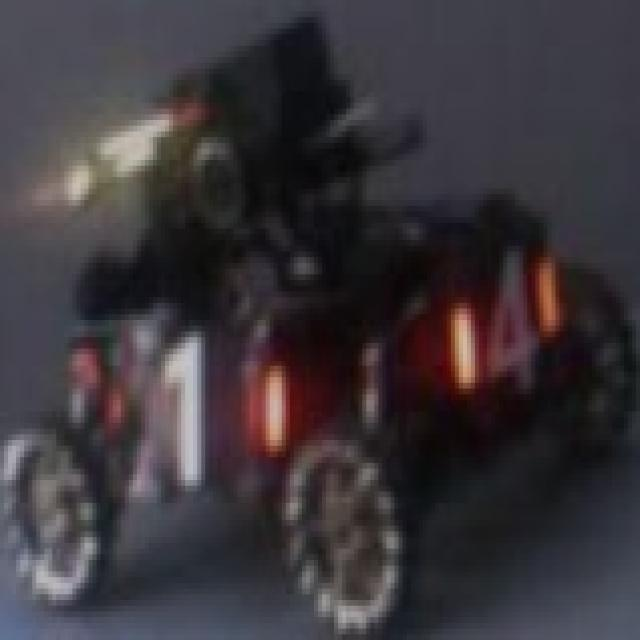R1: (92, 337, 294, 480)
R4: (451, 240, 559, 406)
